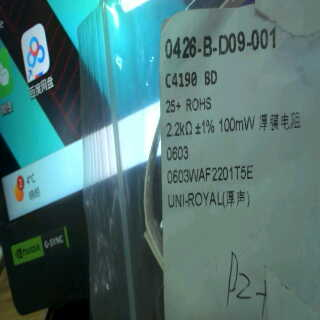2.2kR: (163, 120, 194, 139)
